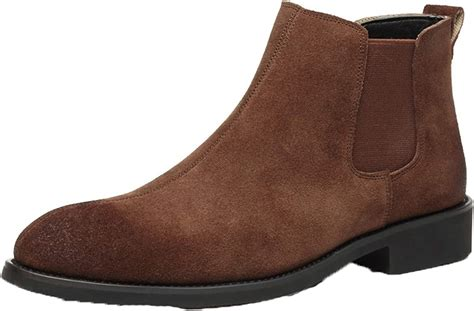gamuza: (13, 1, 467, 286)
